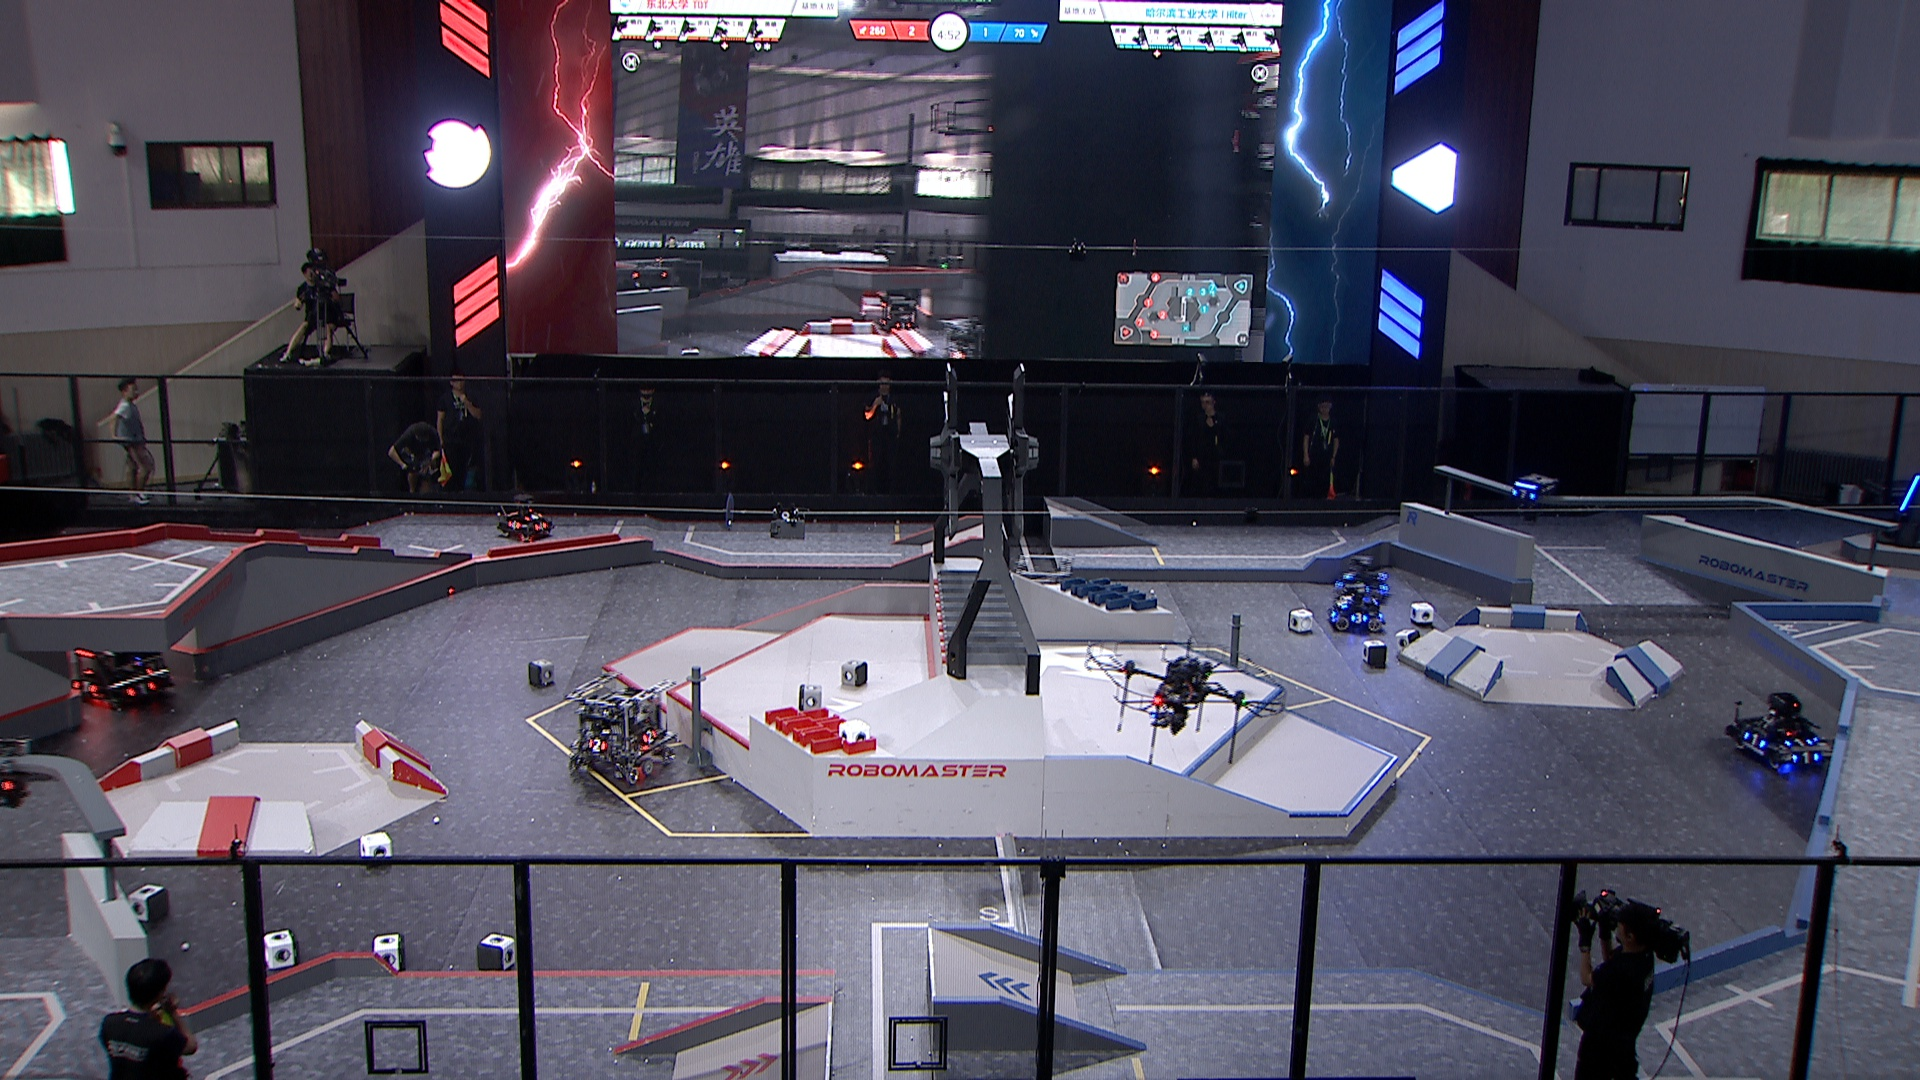armor: (1898, 475, 1920, 512), (71, 676, 98, 695), (1743, 731, 1766, 752), (128, 680, 157, 695), (1513, 484, 1534, 502), (1792, 750, 1820, 764), (588, 736, 607, 752), (1349, 582, 1373, 593), (1785, 736, 1812, 746), (1348, 611, 1365, 626), (524, 509, 543, 522), (644, 727, 657, 742), (1342, 571, 1356, 585), (534, 520, 550, 531), (1335, 597, 1348, 609), (1329, 611, 1338, 626), (506, 520, 520, 529)
base: (1882, 462, 1920, 550)
car: (564, 669, 680, 785), (59, 618, 175, 711), (1727, 688, 1836, 773), (495, 491, 556, 545), (1331, 549, 1396, 599), (1325, 582, 1386, 633)
ignore: (873, 282, 918, 328), (936, 319, 978, 356)
watcher: (1506, 469, 1557, 526)
